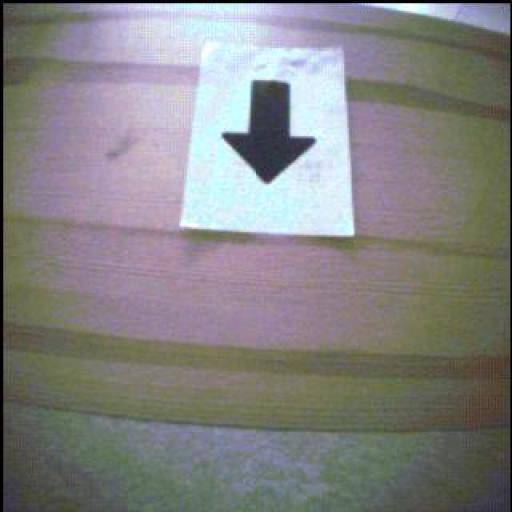arrow: (224, 81, 317, 185)
